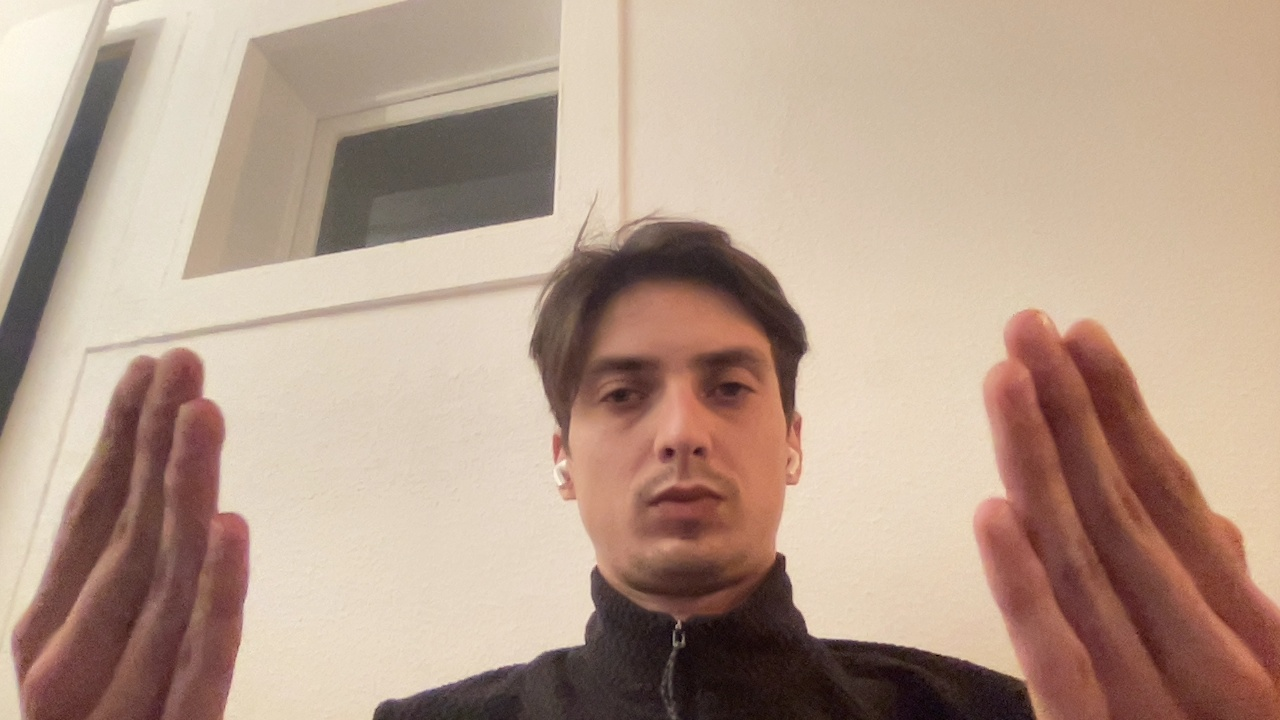Thank you: (897, 264, 1276, 720), (7, 331, 283, 720)
